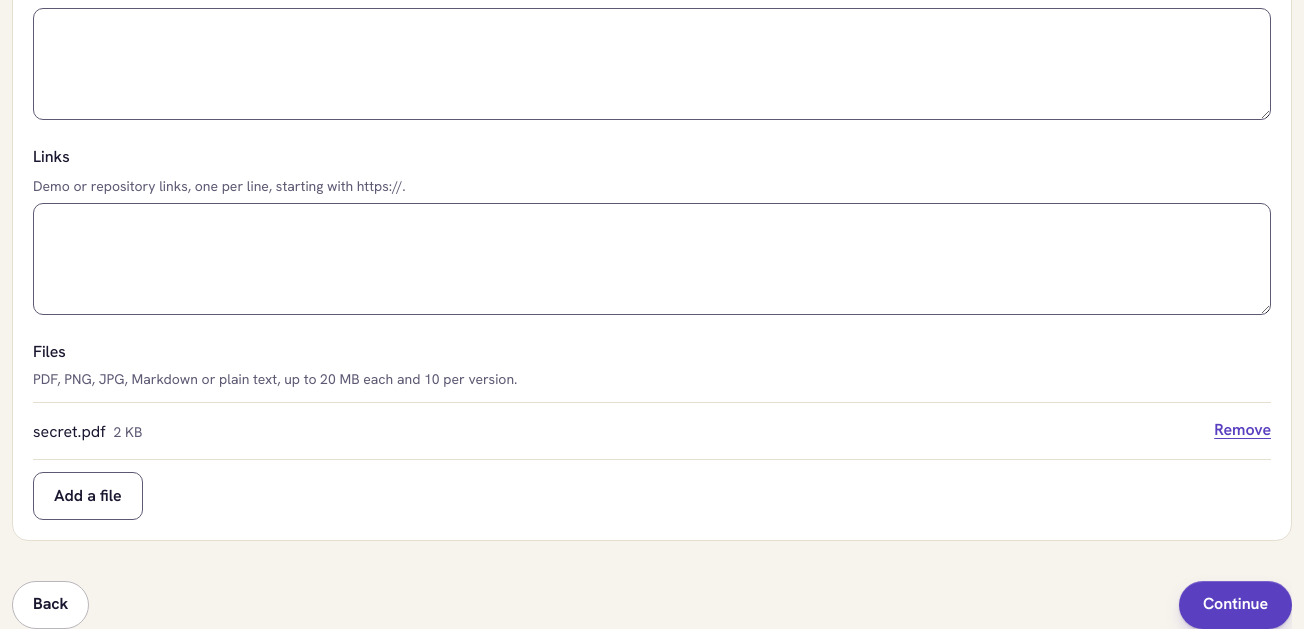
it: files of a published idea › creates the draft first, then removes the draft's own copy
(page scrolled)
Click the button with aria-label "Remove secret.pdf" at coordinates (1243, 431), box [1214,409,1271,453]
(page scrolled)
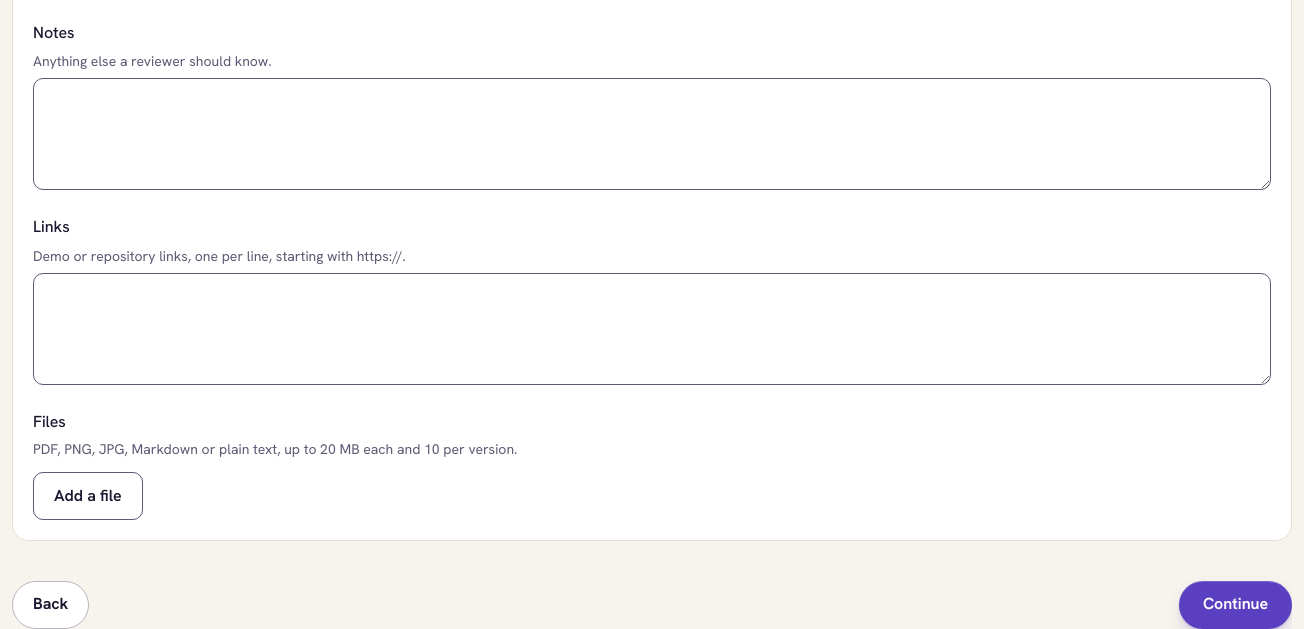
Result: the text "secret.pdf" is gone
